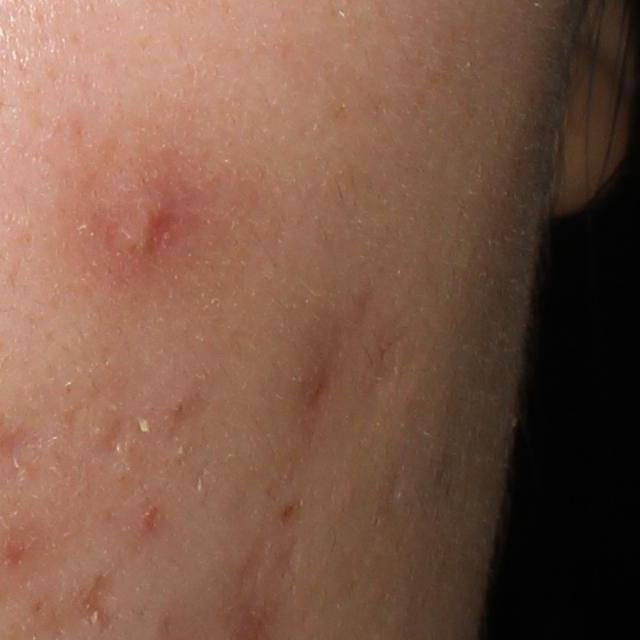atrophic_scar: (291, 308, 339, 473), (346, 317, 411, 422), (79, 576, 116, 632), (98, 408, 133, 461)
papule: (120, 199, 176, 261), (135, 504, 158, 534)
